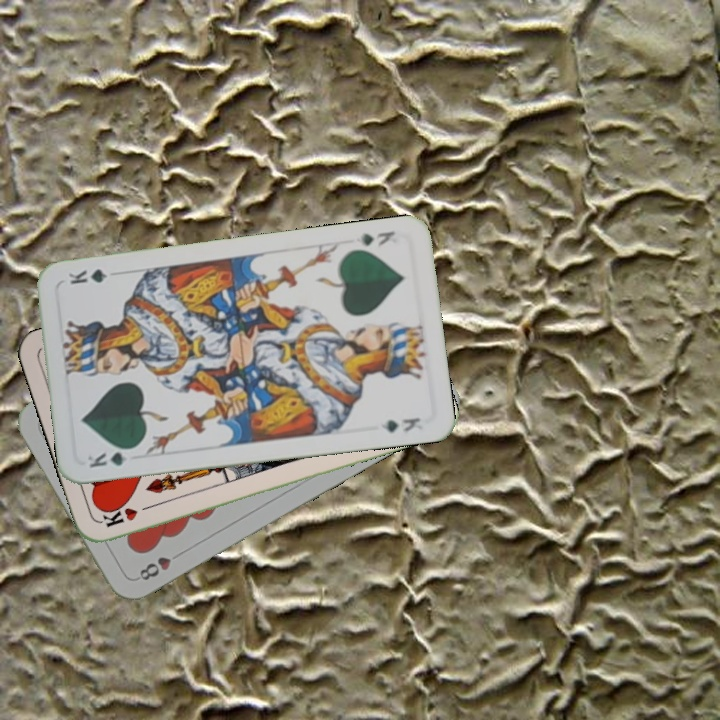GK: (83, 443, 140, 471), (357, 227, 397, 249)
H8: (133, 552, 174, 583)
HK: (98, 500, 157, 530)
